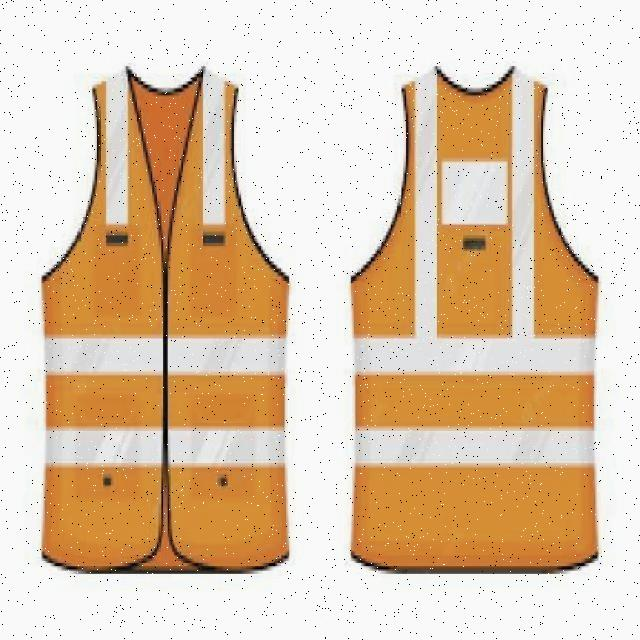Mask: (344, 58, 610, 584), (42, 51, 295, 568)
